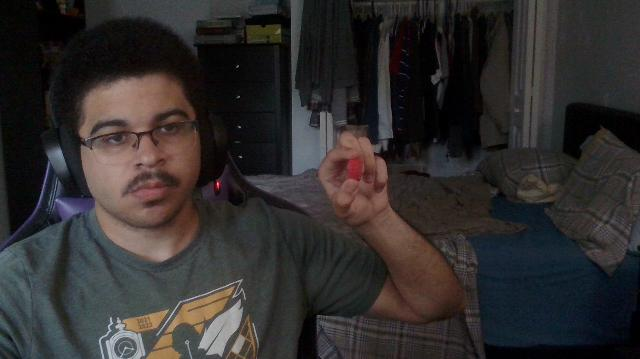cap: (348, 157, 362, 181)
